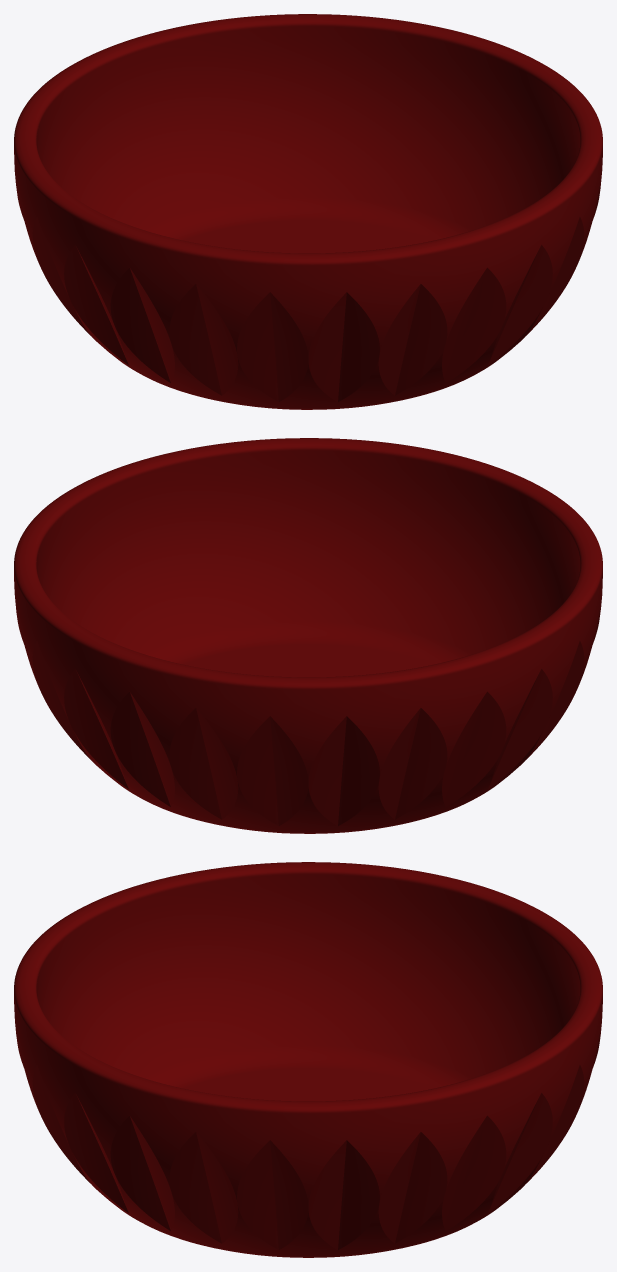
The picture shows the model from 3 angles, top to bottom: view 1: azimuth 30°, elevation 25°; view 2: azimuth 150°, elevation 25°; view 3: azimuth 270°, elevation 25°; orthographic projection.
Bounding box in the file's own units: 0.078 × 0.0278 × 0.078.
